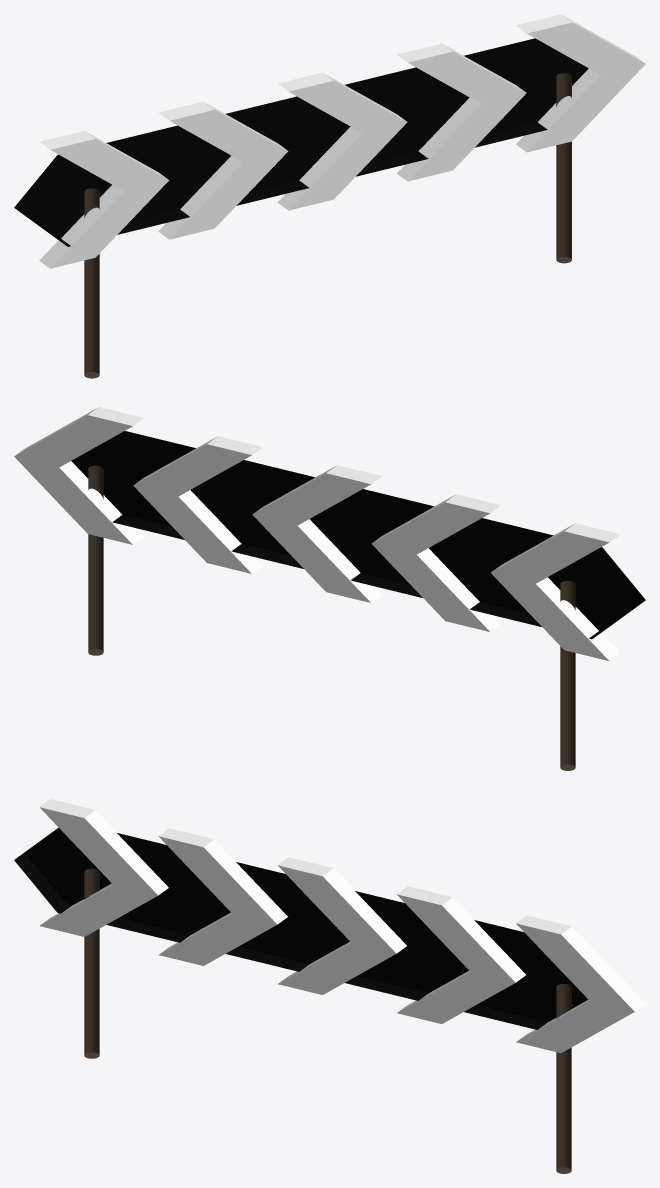
File: arrow_signs_reversed.fbx
The picture shows the model from 3 angles, top to bottom: view 1: azimuth 30°, elevation 25°; view 2: azimuth 150°, elevation 25°; view 3: azimuth 330°, elevation 25°; orthographic projection.
Visible parts, largest first — view 1: Cube.001; view 2: Cube.001; view 3: Cube.001.
Boxes of the visible parts, x1,y1,x2,y2 form: Cube.001: (14, 14, 645, 378); Cube.001: (14, 407, 645, 770); Cube.001: (14, 799, 645, 1173).
Size of the model in its own units: 88.24 by 32.7 by 2.73.
